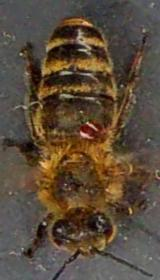varroa_mite: (72, 118, 106, 143)
